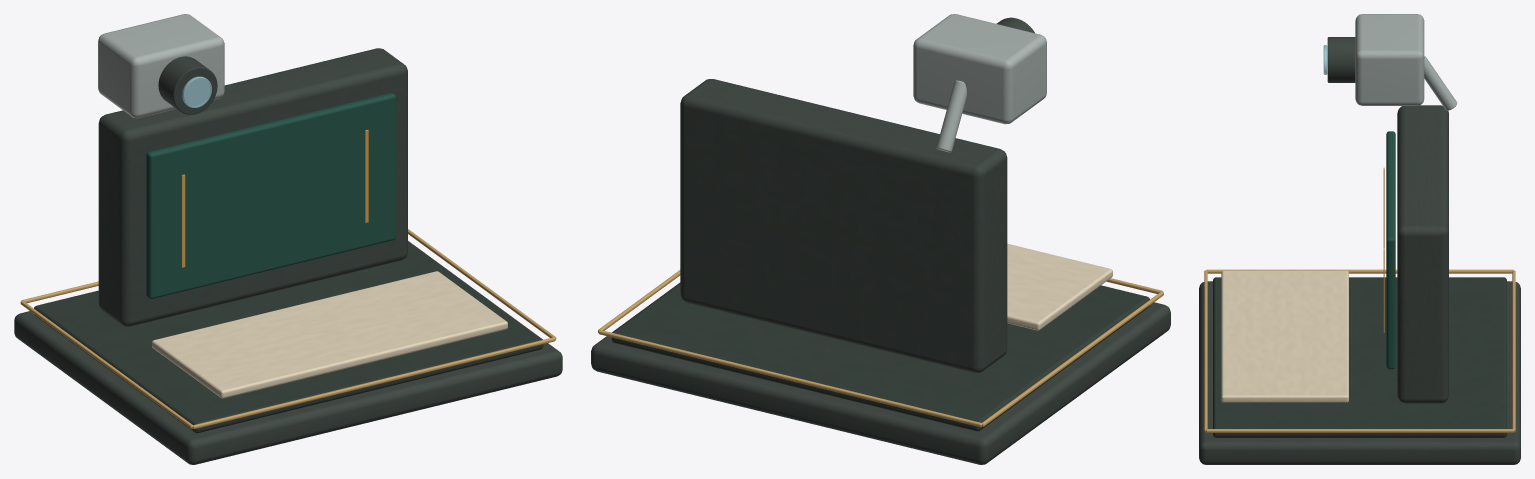
Rendered from security-camera.glb.
The picture shows the model from 3 angles, left to right: view 1: azimuth 30°, elevation 25°; view 2: azimuth 150°, elevation 25°; view 3: azimuth 270°, elevation 25°; orthographic projection. The views are drawn at different scales.
Parts seen in each view (by area): view 1: replay_screen, replay_terminal, felt_insert, coverage_map, display_base, camera_housing, camera_lens, brass_rim_Front, brass_rim_Left, brass_rim_Right, lens_glass; view 2: replay_terminal, felt_insert, display_base, camera_housing, coverage_map, brass_rim_Back, camera_mount, brass_rim_Left; view 3: felt_insert, coverage_map, replay_terminal, display_base, camera_housing, replay_screen, camera_lens, brass_rim_Right, brass_rim_Left, camera_mount, brass_rim_Back, brass_rim_Front.
Boxes of the visible parts, x1,y1,x2,y2 form: replay_screen: (146, 93, 396, 298); replay_terminal: (98, 48, 407, 326); felt_insert: (34, 242, 543, 433); coverage_map: (152, 271, 507, 398); display_base: (14, 241, 562, 464); camera_housing: (98, 14, 224, 118); camera_lens: (158, 56, 217, 114); brass_rim_Front: (192, 337, 555, 429); brass_rim_Left: (20, 301, 192, 428); brass_rim_Right: (408, 229, 556, 339); lens_glass: (182, 76, 211, 107); replay_terminal: (680, 79, 1007, 372); felt_insert: (611, 284, 1149, 431); display_base: (591, 282, 1170, 464); camera_housing: (913, 14, 1046, 124); coverage_map: (1007, 243, 1112, 330); brass_rim_Back: (598, 330, 981, 427); camera_mount: (936, 80, 966, 152); brass_rim_Left: (982, 291, 1163, 426); felt_insert: (1213, 277, 1506, 437); coverage_map: (1221, 270, 1348, 402); replay_terminal: (1397, 105, 1448, 403); display_base: (1199, 281, 1520, 464); camera_housing: (1355, 14, 1424, 105); replay_screen: (1386, 131, 1395, 369); camera_lens: (1327, 37, 1355, 82); brass_rim_Right: (1206, 429, 1513, 432); brass_rim_Left: (1206, 269, 1513, 273); camera_mount: (1424, 56, 1457, 110); brass_rim_Back: (1512, 270, 1515, 432); brass_rim_Front: (1204, 270, 1207, 432).
Bounding box in the file's own units: 0.34 × 0.2915 × 0.28.
Materials: 8 (3 with a texture image).
